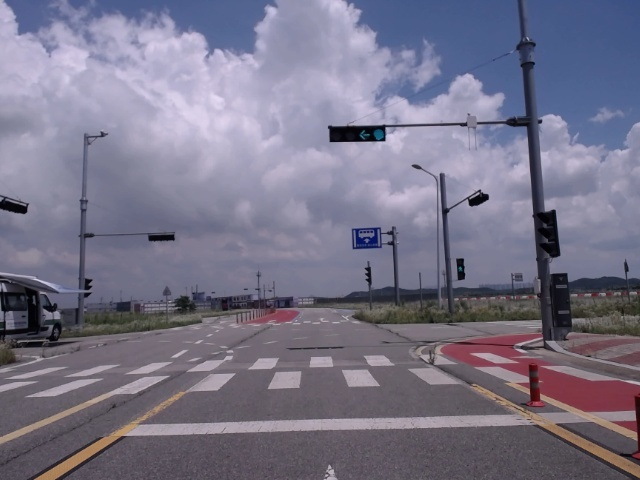all_green_4: (331, 125, 386, 139)
